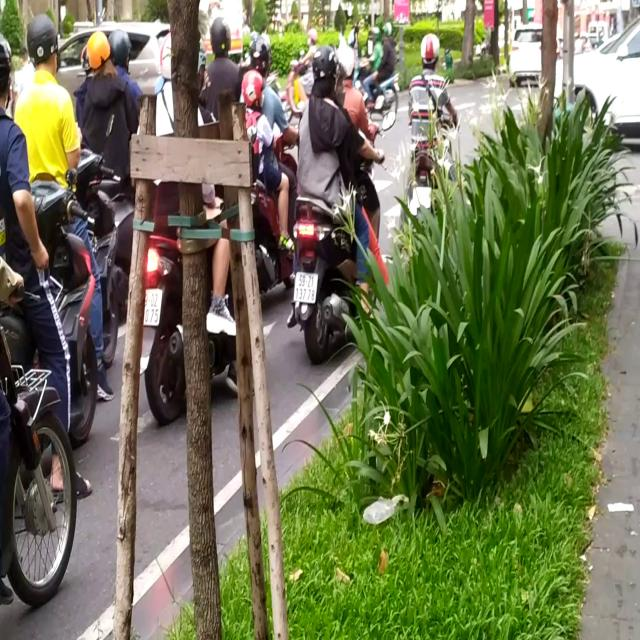bien_trang: (294, 266, 318, 307)
